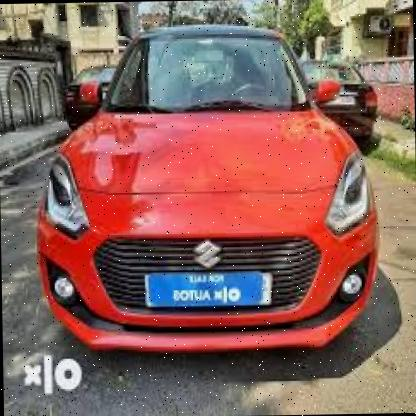car: (24, 13, 393, 365)
